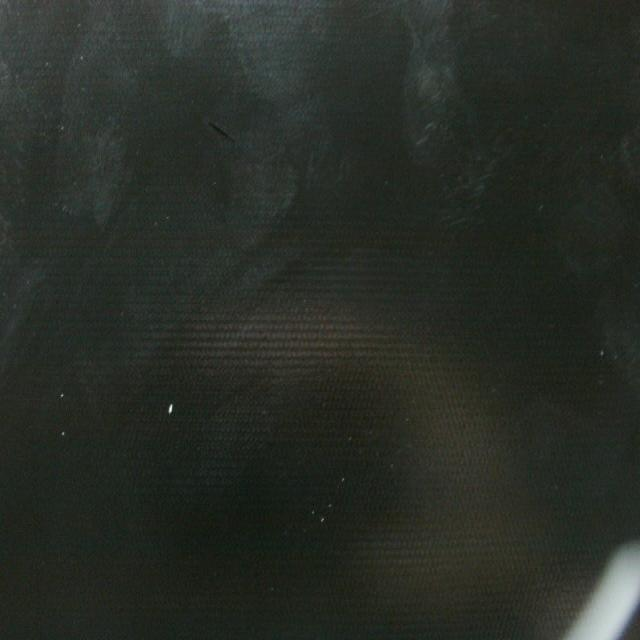scratch: (202, 113, 240, 155)
